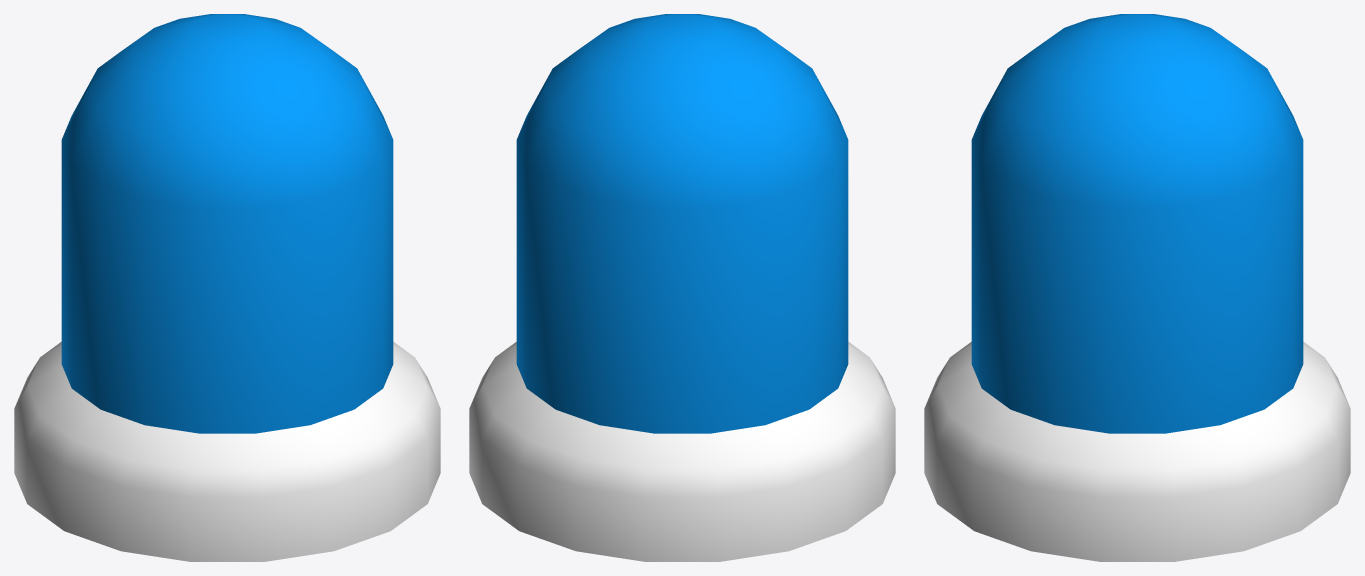
File: LED_1_Blue.fbx
3 views of the same model, side by side, from view 1: azimuth 30°, elevation 25°; view 2: azimuth 150°, elevation 25°; view 3: azimuth 270°, elevation 25° (orthographic).
Visible parts, largest first — view 1: LED_1_Blue; view 2: LED_1_Blue; view 3: LED_1_Blue.
Part boxes in pixels (box(x1,y1,x2,y2)): LED_1_Blue: box(14, 14, 440, 561); LED_1_Blue: box(469, 14, 895, 561); LED_1_Blue: box(924, 14, 1350, 561).
Size of the model in its own units: 23.66 by 27.52 by 24.03.
